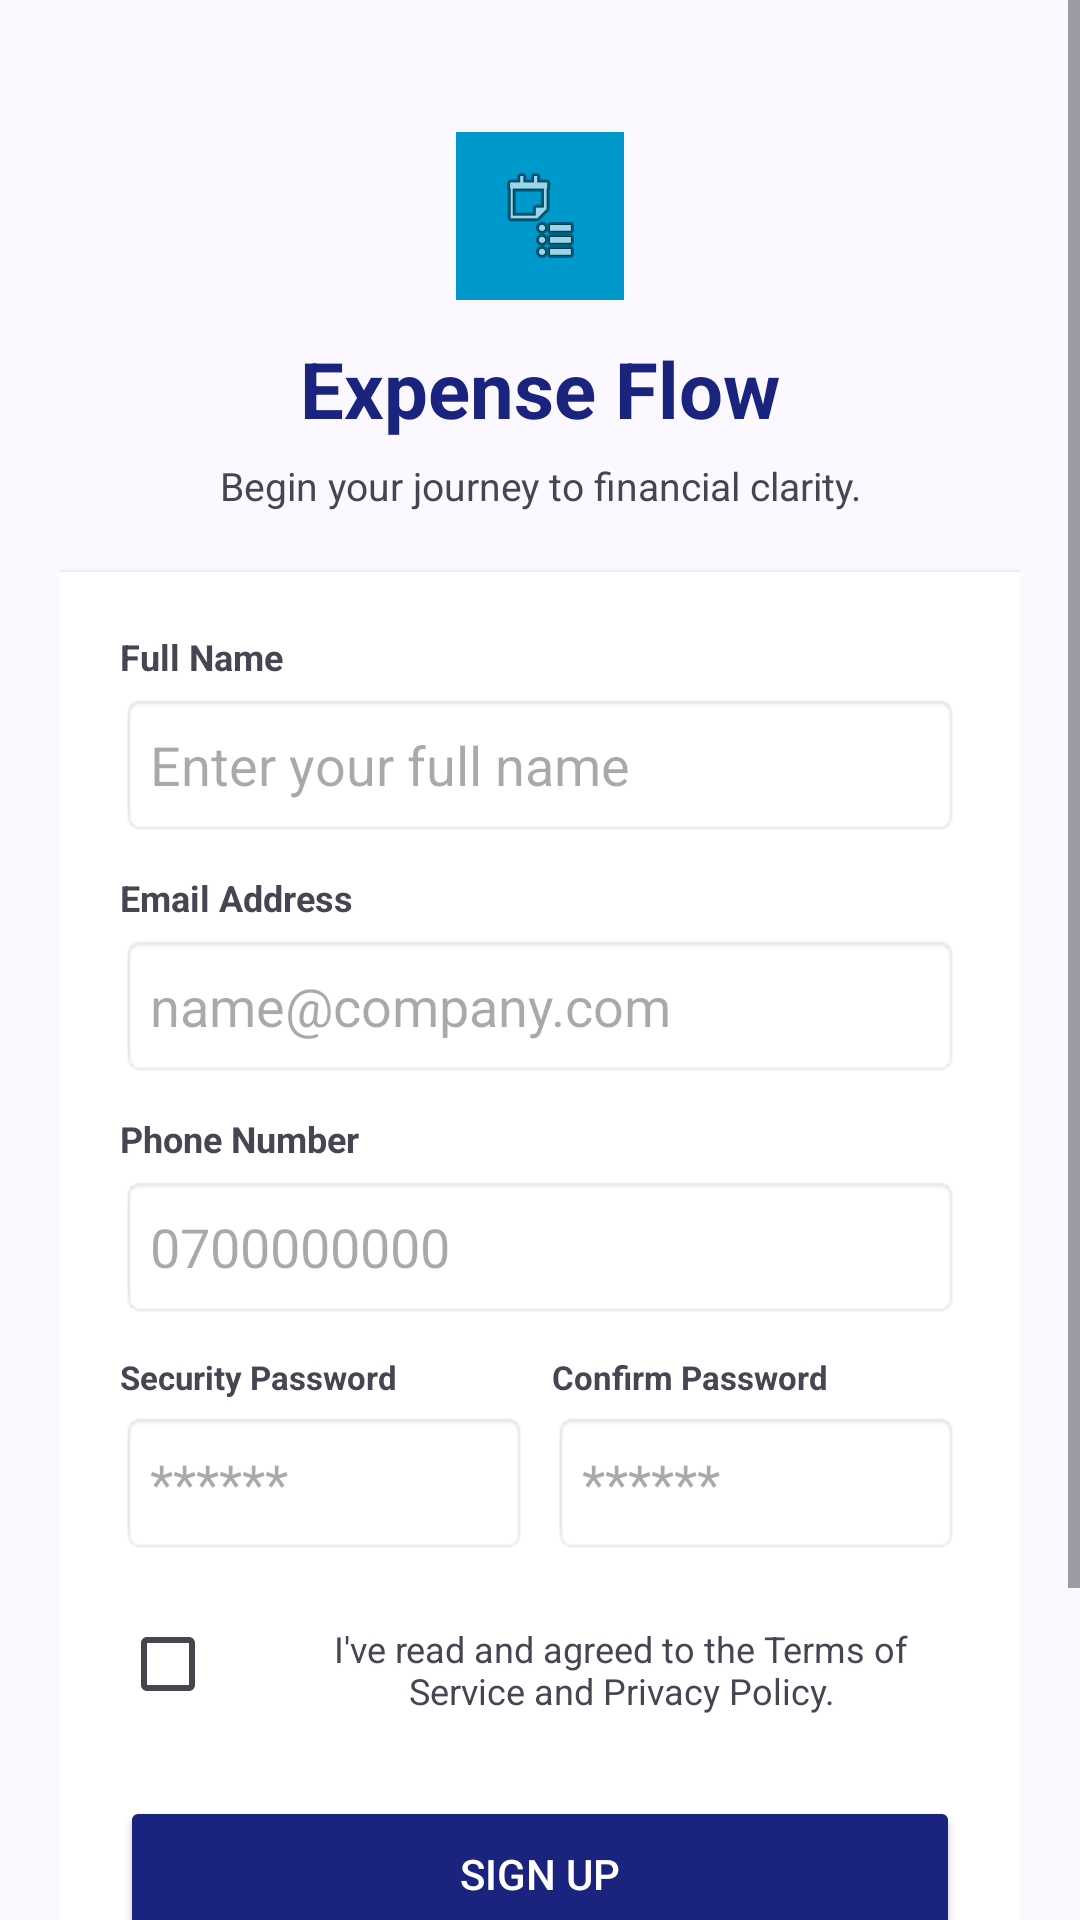

Where to tap for icons on this 1080px×1920px app screen, as point (x, y):
agenda: point (540, 215)
